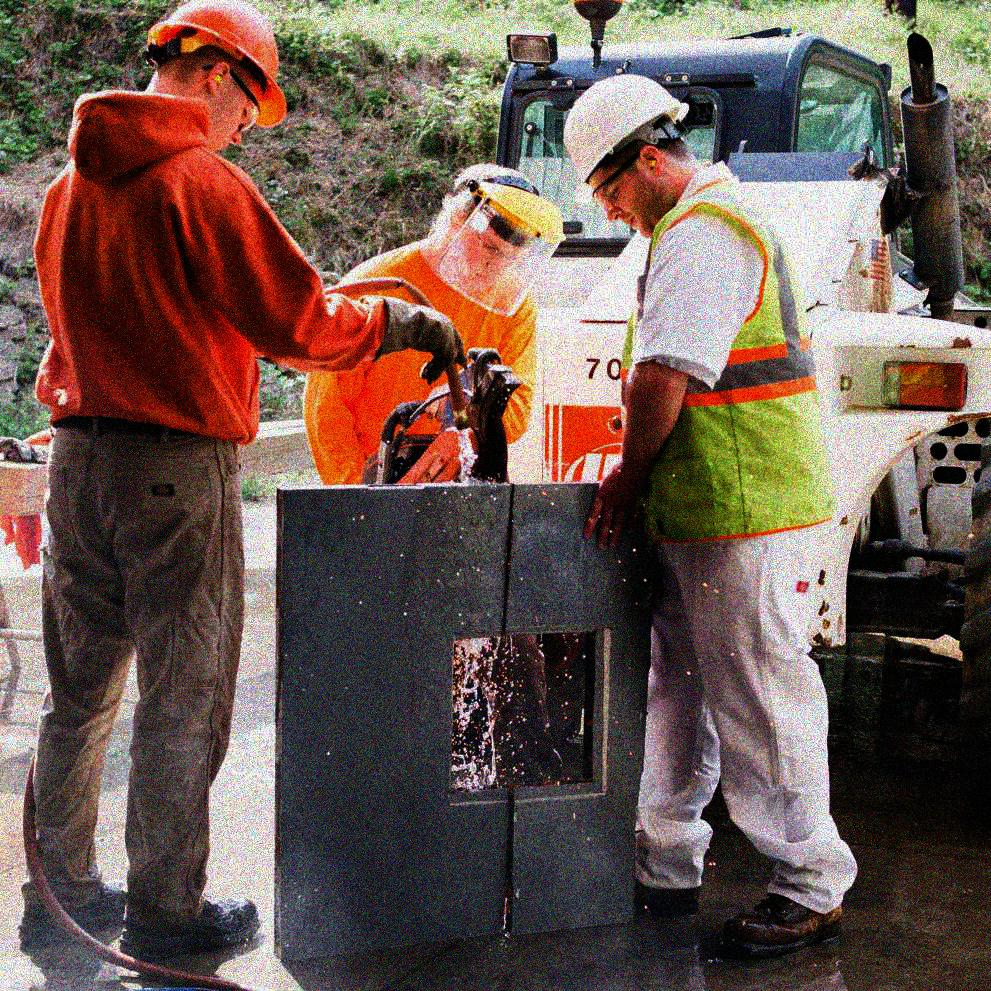helmet: (135, 1, 288, 156), (559, 74, 700, 235)
